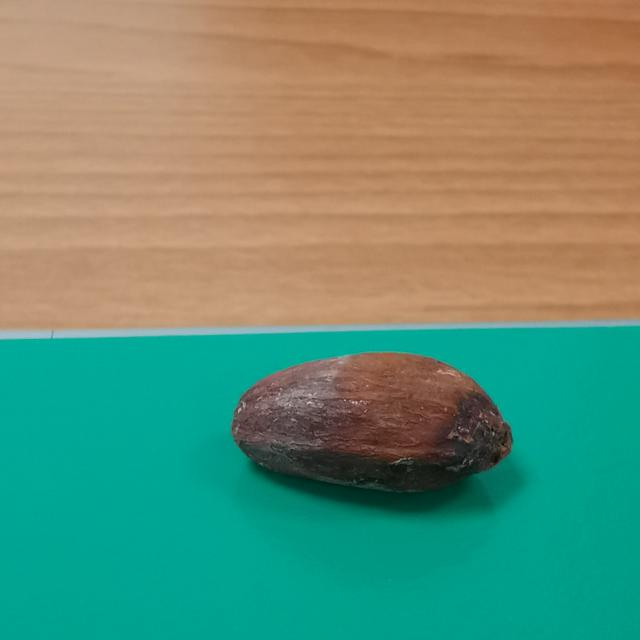Fine_cocoabeans: (178, 330, 564, 536)
